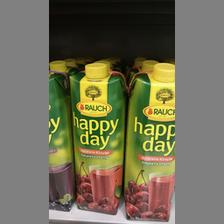Saft: (66, 62, 125, 215), (125, 62, 174, 222), (49, 60, 71, 208)
